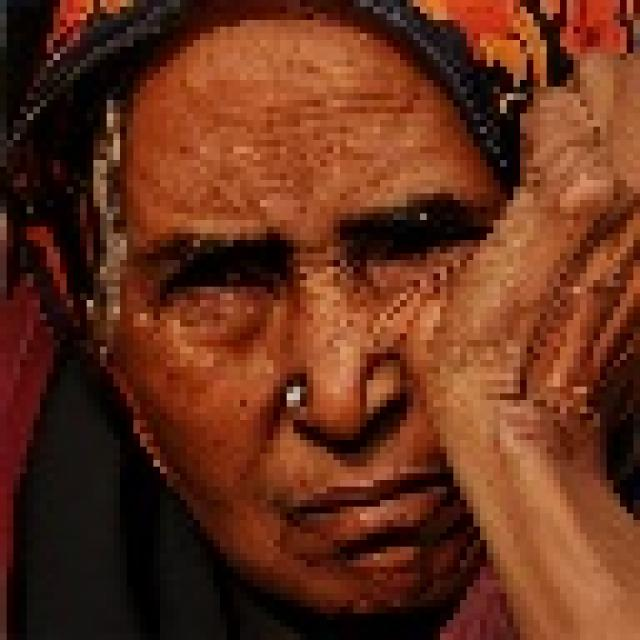angry: (44, 19, 559, 598)
